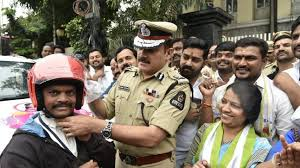helmet: (23, 54, 101, 127)
